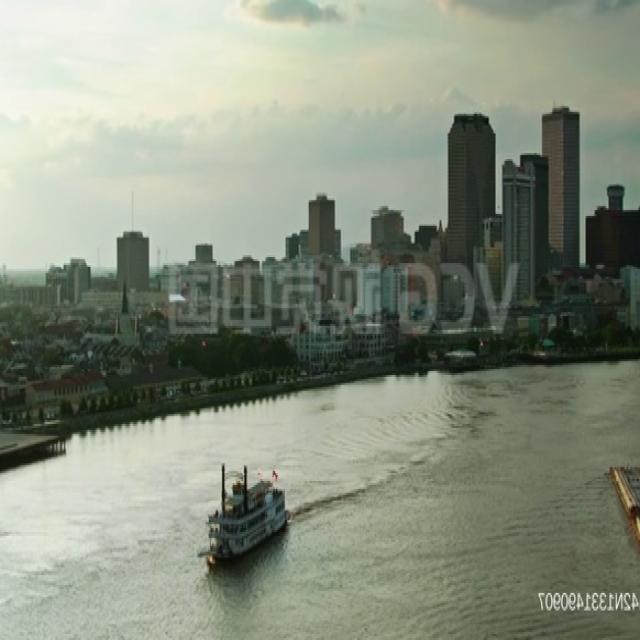cargoship: (612, 451, 640, 640)
passenger ship: (201, 466, 289, 559)
